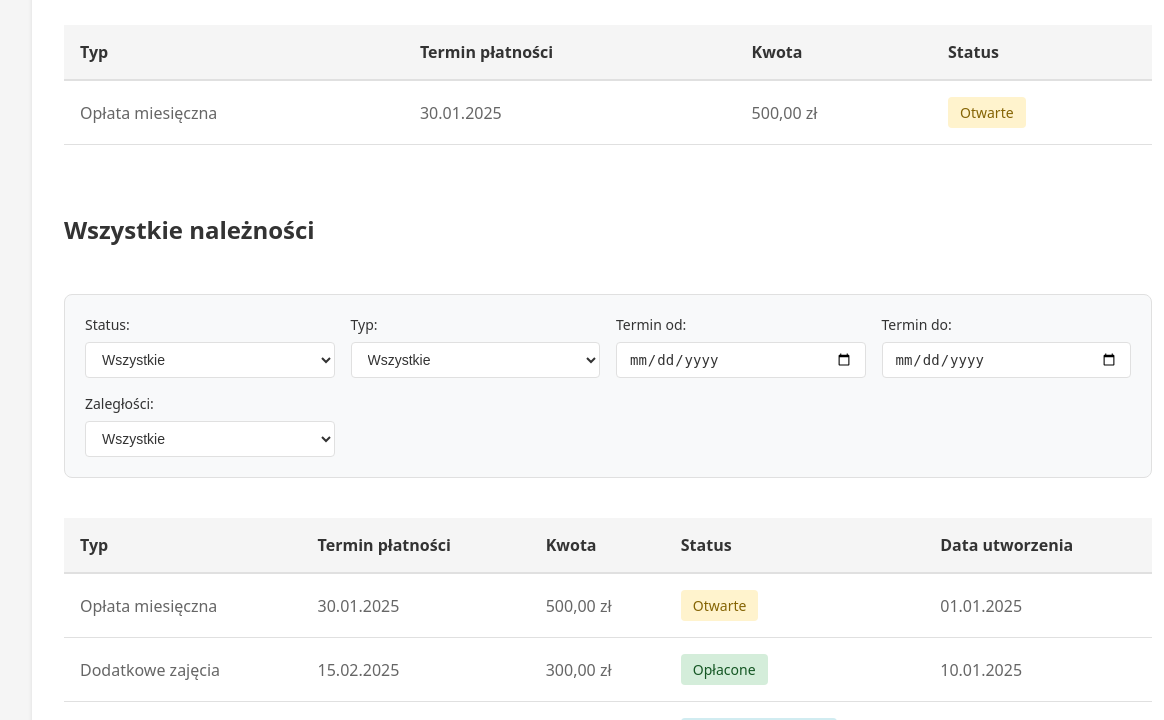
Test: BillingPage › should show clear filters button when filters are active
(page scrolled)
Select "Otwarte" in the dropdown labelled "Status:". click: (210, 360)
box: [85,342,334,378]
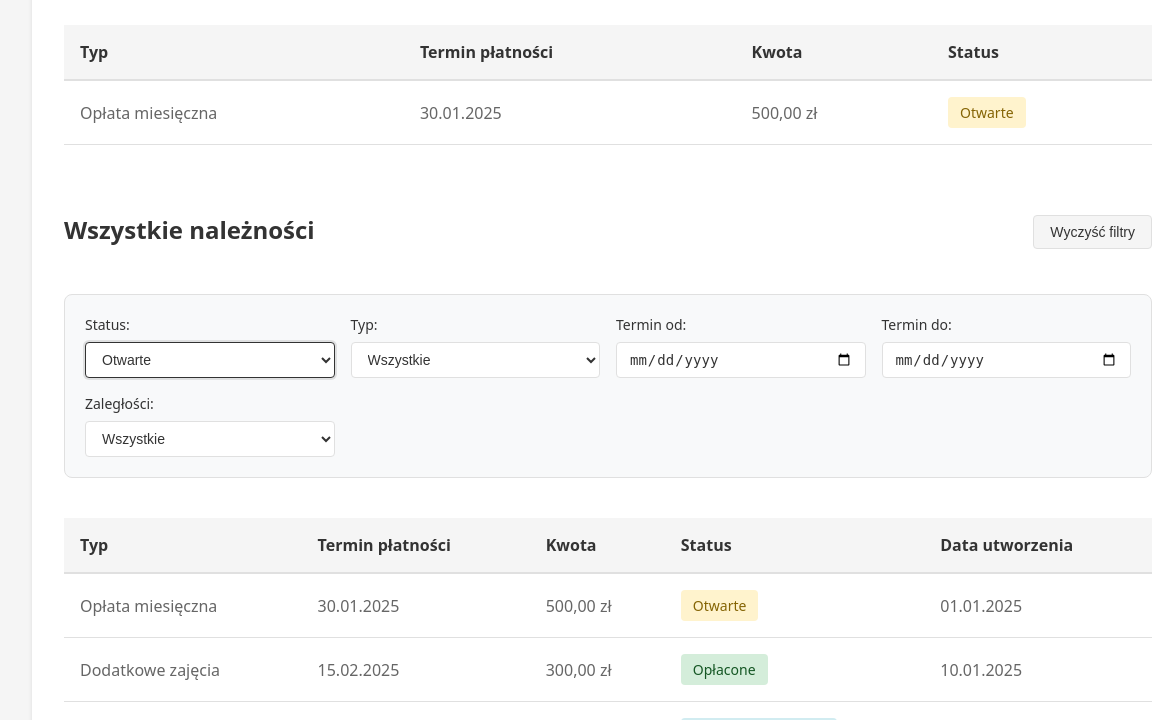
Expected: the button "Wyczyść filtry" is shown, [1033,215,1152,249]
